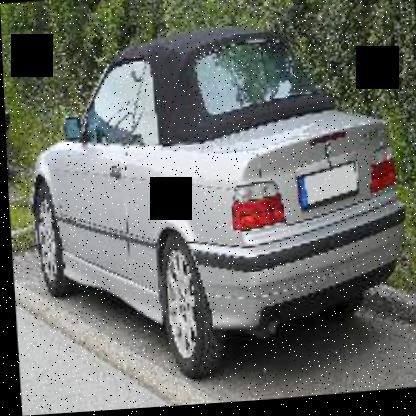not_emergency: (20, 15, 409, 389)
